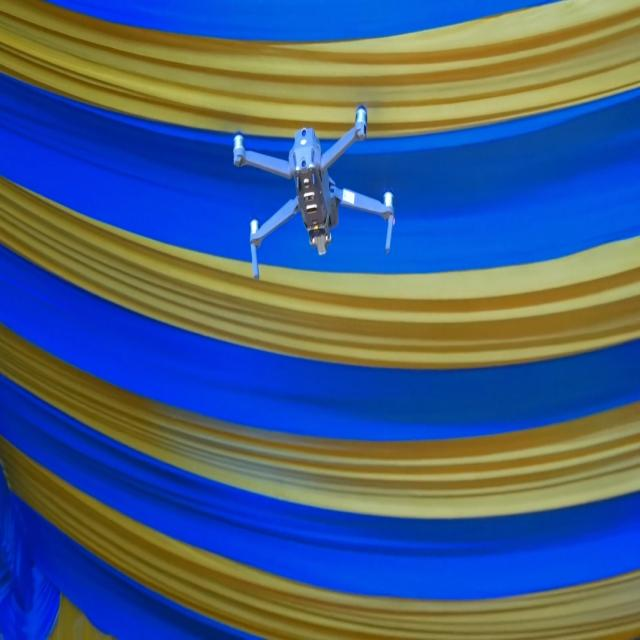Drone: (227, 97, 402, 285)
